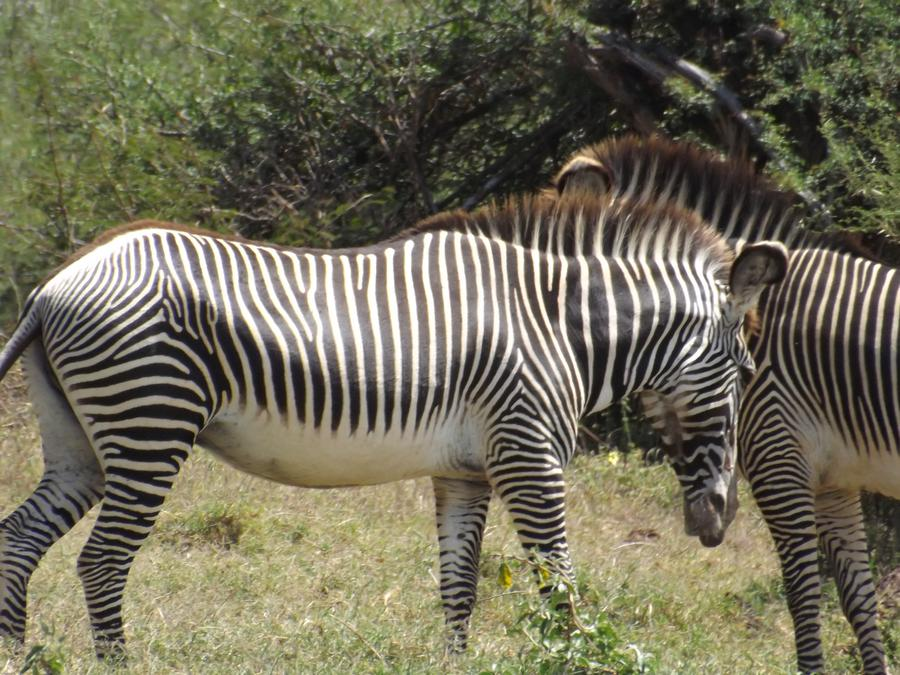zebra_grevys: (26, 199, 571, 479)
